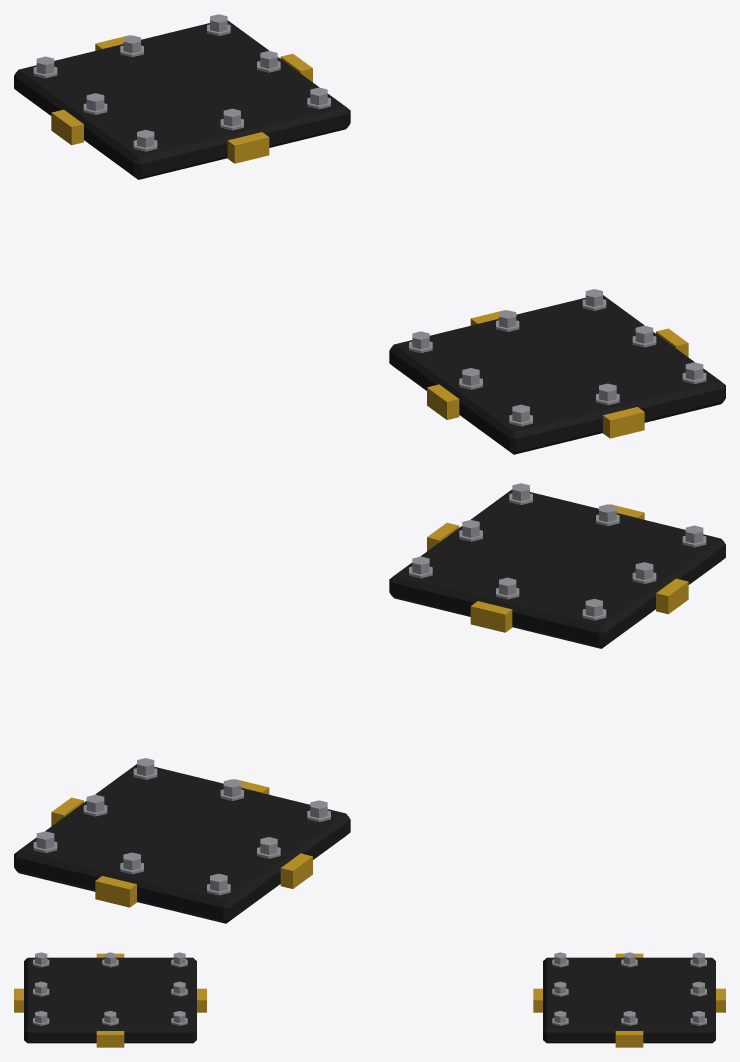
The model's file is md40_flange.obj.
3 views of the same model, one above another, from view 1: azimuth 30°, elevation 25°; view 2: azimuth 150°, elevation 25°; view 3: azimuth 270°, elevation 25° (orthographic). The views are drawn at different scales.
Parts seen in each view (by area): view 1: md40_flange; view 2: md40_flange; view 3: md40_flange.
Part boxes in pixels (box(x1,y1,x2,y2)): md40_flange: box(14, 14, 725, 454); md40_flange: box(14, 483, 725, 923); md40_flange: box(14, 952, 725, 1047).
Bounding box in the file's own units: 1.56 × 0.2135 × 5.76.
